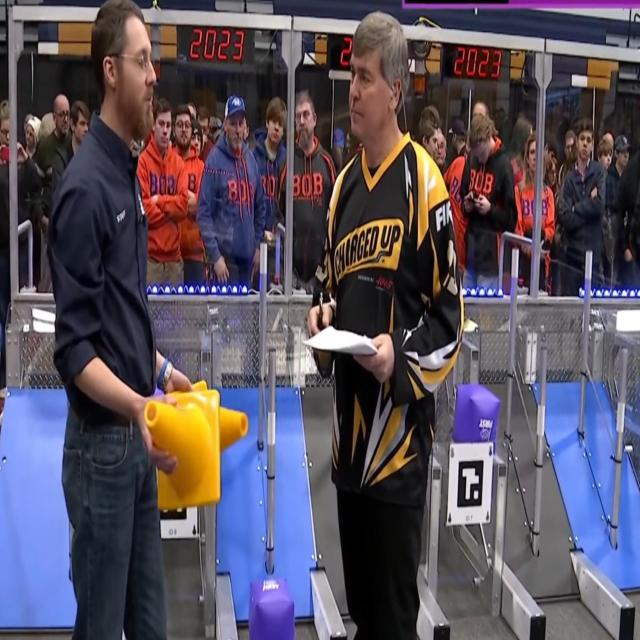frc_cone: (144, 391, 222, 509), (220, 400, 248, 458)
frc_cube: (452, 382, 498, 450), (248, 577, 295, 640)
